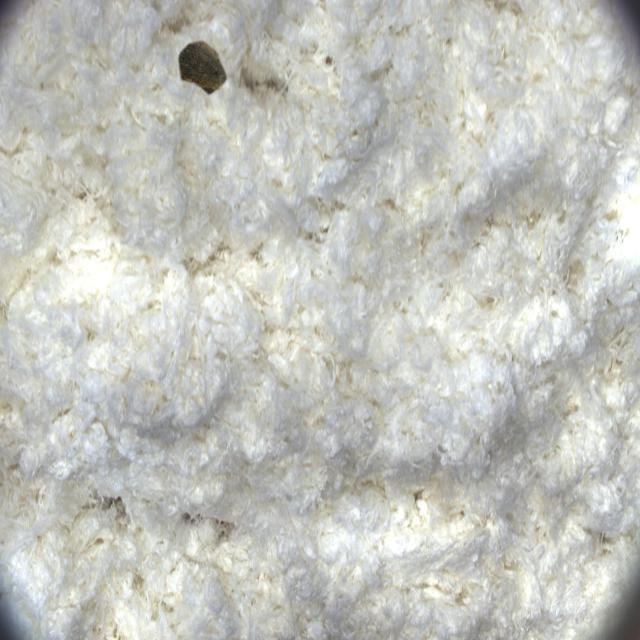dust: (165, 12, 253, 129)
